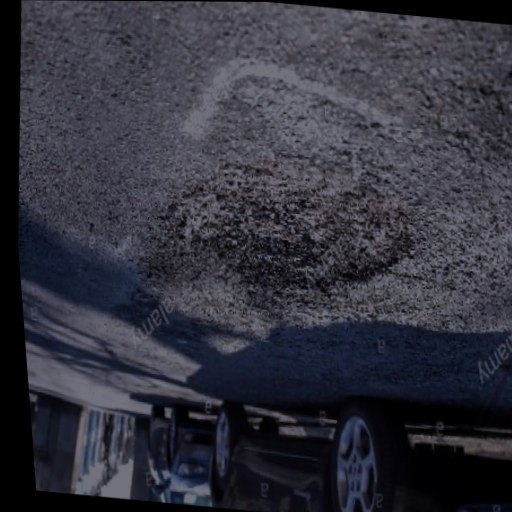pothole: (125, 139, 432, 315)
